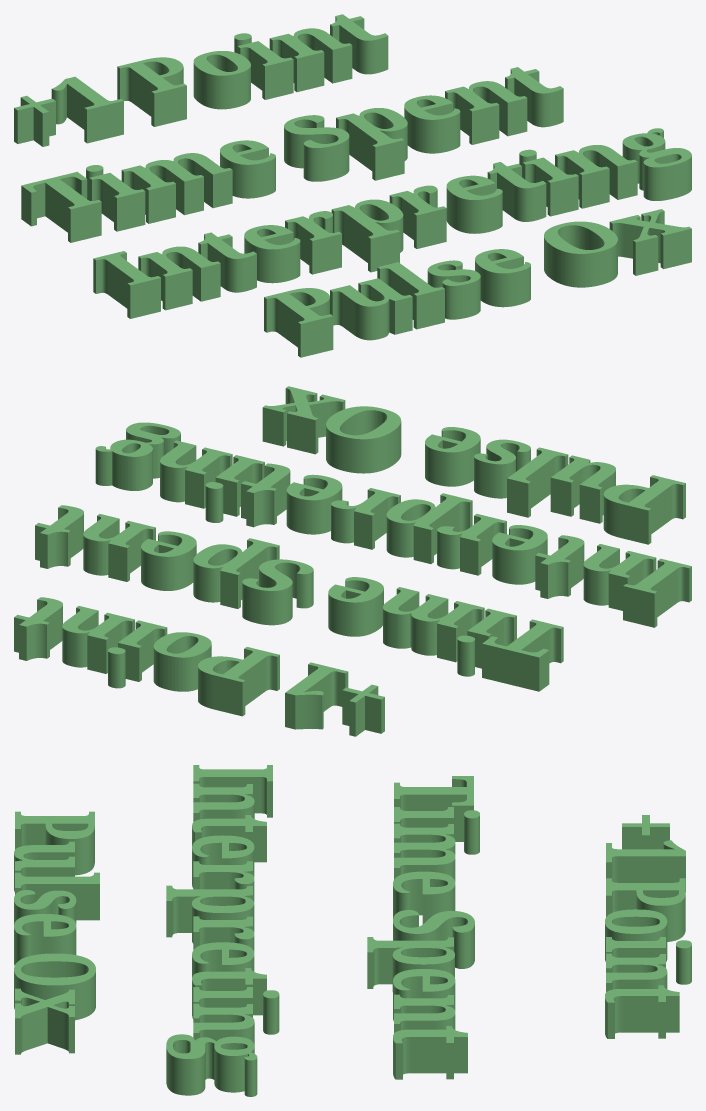
File: posox.gltf
The picture shows the model from 3 angles, top to bottom: view 1: azimuth 30°, elevation 25°; view 2: azimuth 150°, elevation 25°; view 3: azimuth 270°, elevation 25°; orthographic projection. The views are drawn at different scales.
Visible parts, largest first — view 1: Mesh_Mesh_head_geo001_lambert2SG001; view 2: Mesh_Mesh_head_geo001_lambert2SG001; view 3: Mesh_Mesh_head_geo001_lambert2SG001.
Part boxes in pixels (x1=…): Mesh_Mesh_head_geo001_lambert2SG001: x1=14, y1=14, x2=691, y2=357; Mesh_Mesh_head_geo001_lambert2SG001: x1=14, y1=386, x2=691, y2=736; Mesh_Mesh_head_geo001_lambert2SG001: x1=14, y1=765, x2=691, y2=1096.
Bounding box in the file's own units: 174 × 10 × 169.
